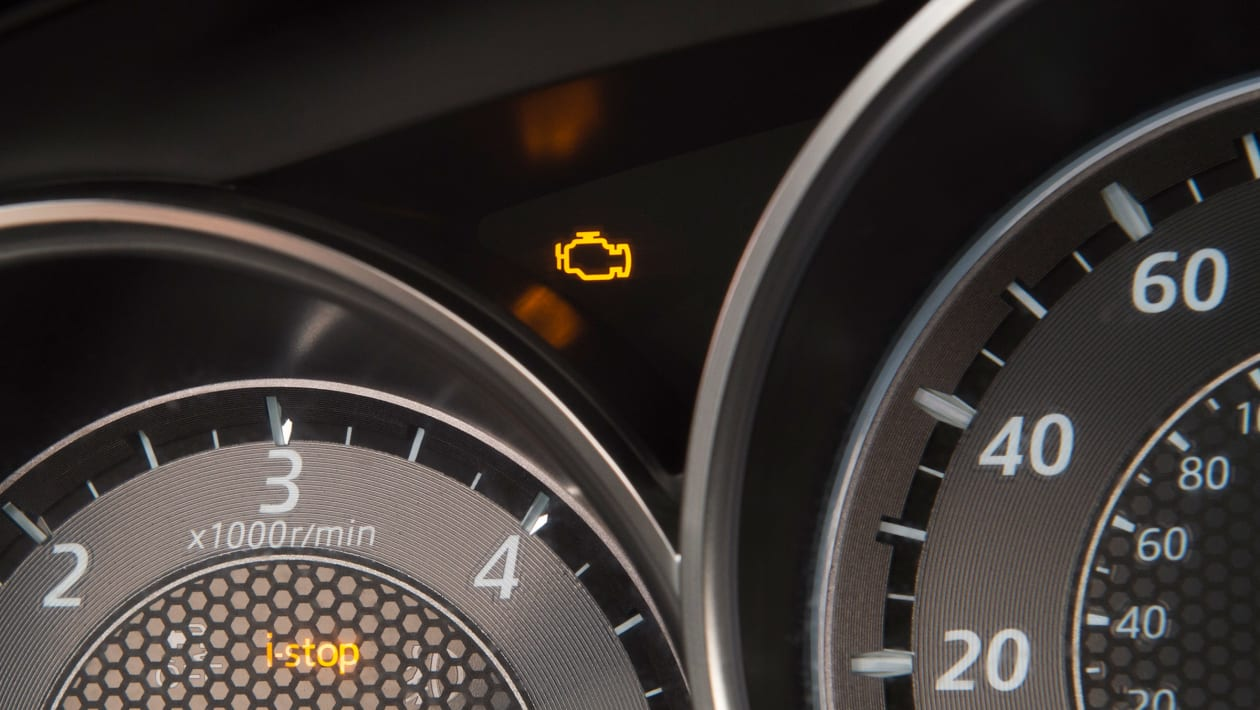Engine_emissions: (550, 222, 640, 289)
